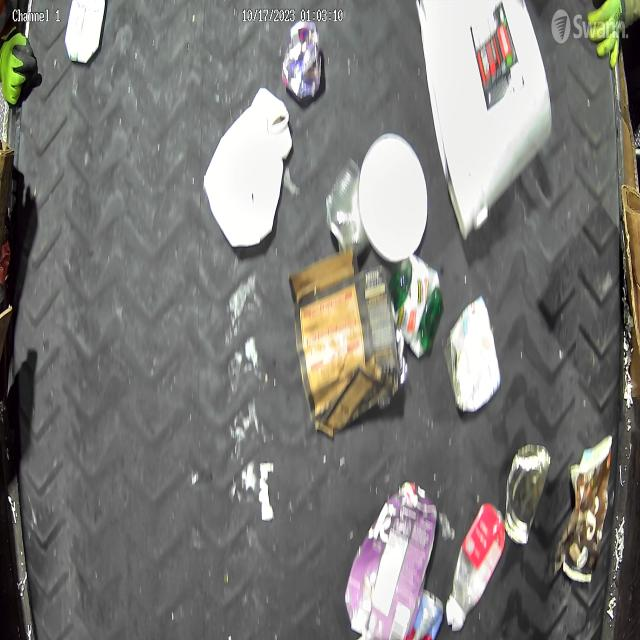can: (505, 444, 550, 545), (326, 159, 369, 257)
milk_jug: (203, 89, 292, 246)
non_white_jug: (345, 480, 438, 640)
